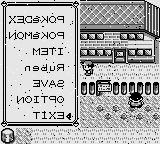leer: (96, 79, 112, 95)
main: (82, 60, 94, 76)
no-caminable: (80, 1, 159, 63), (113, 82, 160, 95), (1, 128, 16, 143), (81, 82, 95, 95)
npc: (128, 92, 144, 108)
puerta: (115, 49, 126, 63)
seleccionado: (31, 111, 72, 120)
texto: (2, 0, 79, 128)
